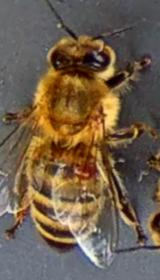varroa_mite: (66, 149, 101, 184)
